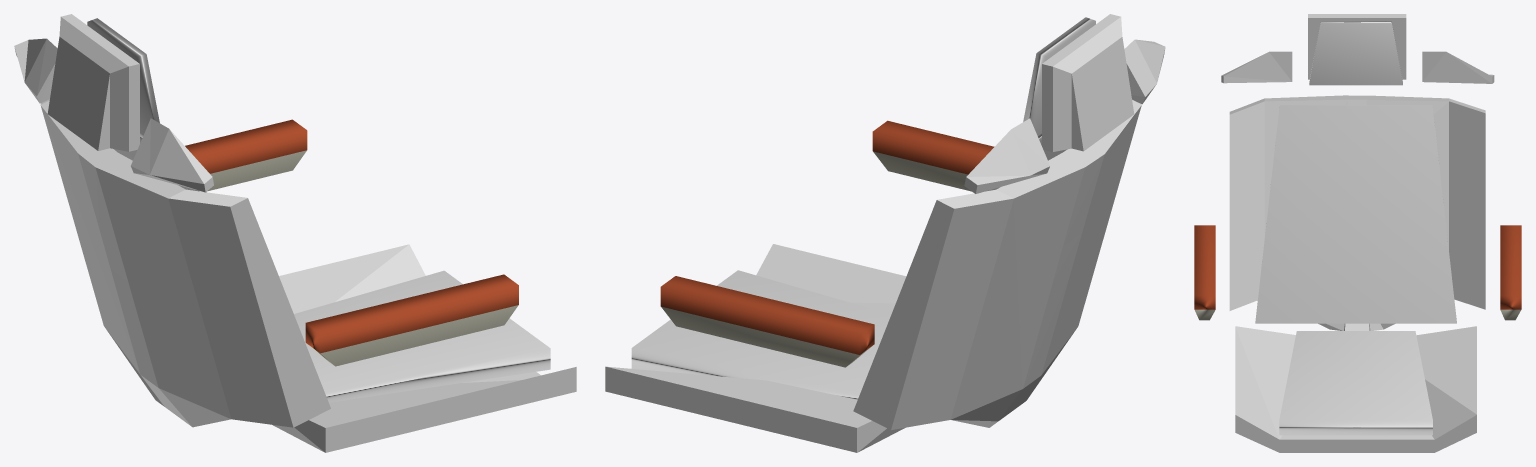
Rendered from PilotSeat.fbx.
3 views of the same model, side by side, from view 1: azimuth 30°, elevation 25°; view 2: azimuth 150°, elevation 25°; view 3: azimuth 270°, elevation 25° (orthographic). The views are drawn at different scales.
Parts seen in each view (by area): view 1: pCube1, pCube2, pCube6, pCube4, pCube7, pCube5; view 2: pCube1, pCube2, pCube7, pCube4, pCube6, pCube5; view 3: pCube3, pCube1, pCube2, pCube5, pCube6, pCube7, pCube4.
Boxes of the visible parts, x1,y1,x2,y2 form: pCube1: (14, 38, 576, 452); pCube2: (294, 270, 550, 402); pCube6: (305, 274, 518, 366); pCube4: (47, 14, 139, 151); pCube7: (185, 119, 307, 191); pCube5: (87, 18, 159, 135); pCube1: (605, 39, 1165, 452); pCube2: (631, 270, 891, 399); pCube7: (660, 276, 874, 367); pCube4: (1042, 14, 1134, 151); pCube6: (872, 120, 994, 191); pCube5: (1023, 17, 1095, 136); pCube3: (1255, 105, 1456, 323); pCube1: (1221, 51, 1494, 452); pCube2: (1279, 331, 1432, 435); pCube5: (1309, 21, 1402, 85); pCube6: (1194, 225, 1215, 320); pCube7: (1500, 225, 1521, 320); pCube4: (1308, 14, 1406, 79).
Size of the model in its own units: 0.0868 by 0.0809 by 0.0802.
